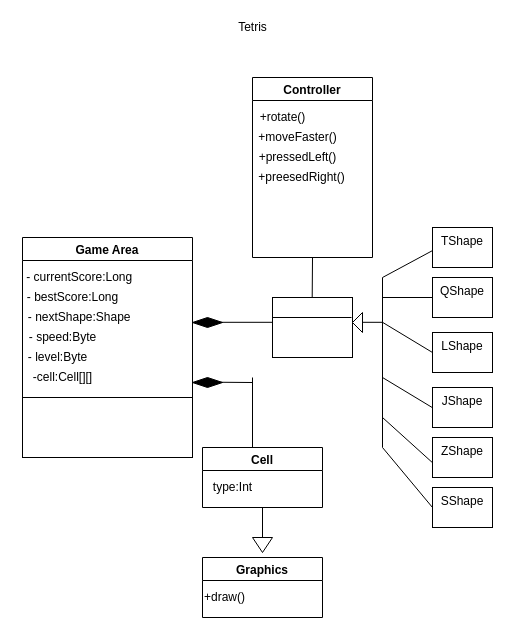
Some shapes in this 510 by 635 pixel diagram are drawn without their labels. The shapes that lost their labels are listed below. From the top down, each one's centre as x and y in pixels, then its label:
At [312,327]: "Shape -controller: Controller".
At [107,427]: "+startGame() +pause/resume() +mute/unmute()".
